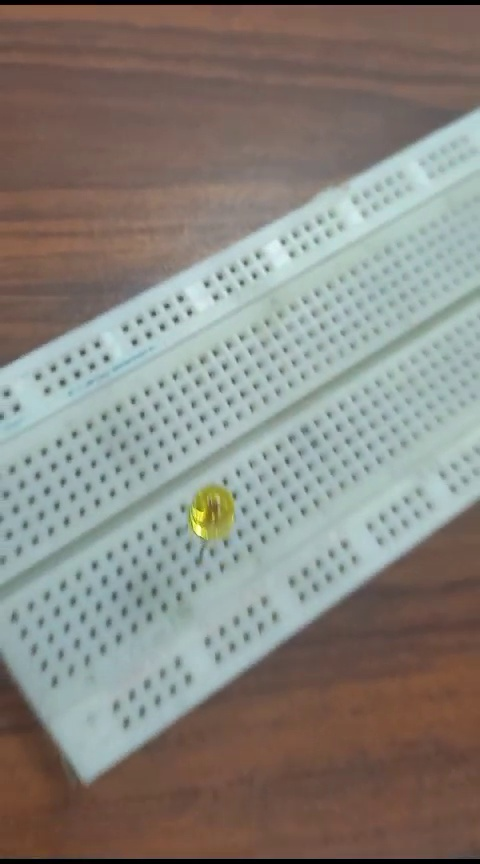LED: (175, 483, 231, 575)
